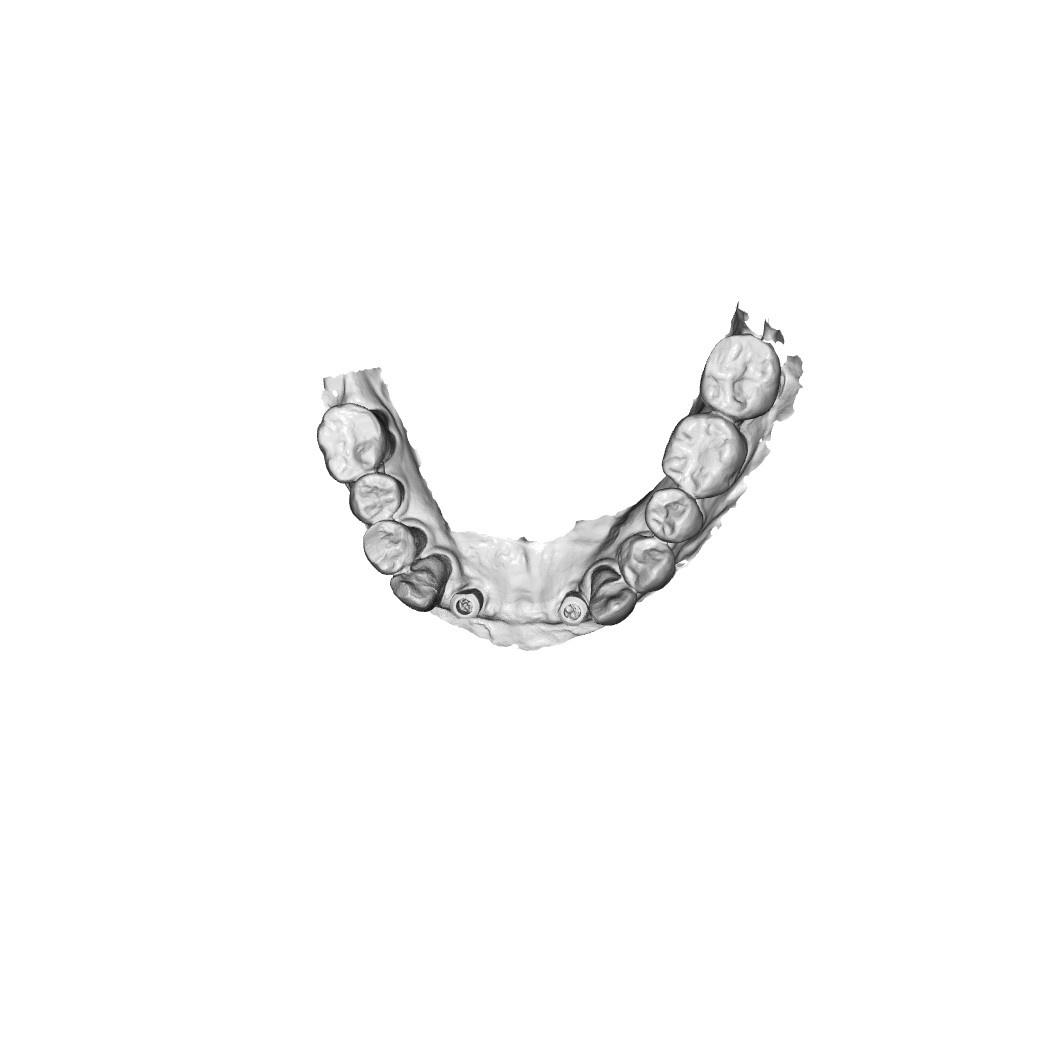canine: (389, 559, 451, 617), (588, 565, 639, 624)
implant: (558, 595, 592, 627), (452, 590, 485, 619)
molar: (661, 413, 751, 502), (703, 334, 776, 411), (315, 404, 389, 479)
premolar: (345, 470, 407, 527), (360, 515, 413, 574), (646, 486, 702, 541), (621, 531, 677, 585)
